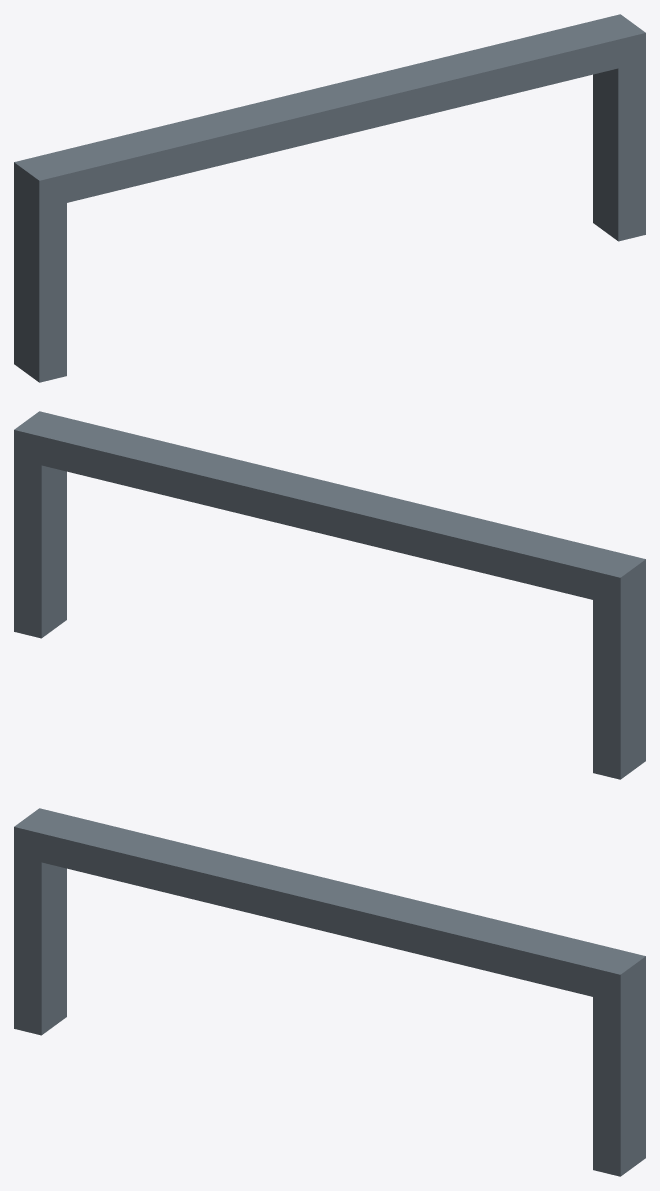
Rendered from Gate10Frame.gltf.
3 renders of one model, top to bottom at view 1: azimuth 30°, elevation 25°; view 2: azimuth 150°, elevation 25°; view 3: azimuth 330°, elevation 25°, orthographic.
Parts seen in each view (by area): view 1: GateVisual; view 2: GateVisual; view 3: GateVisual.
Boxes of the visible parts, x1,y1,x2,y2 form: GateVisual: [14, 14, 645, 382]; GateVisual: [14, 411, 645, 779]; GateVisual: [14, 808, 645, 1176].
Size of what is drawn, in the model's own units: 11 by 3.5 by 0.8.
